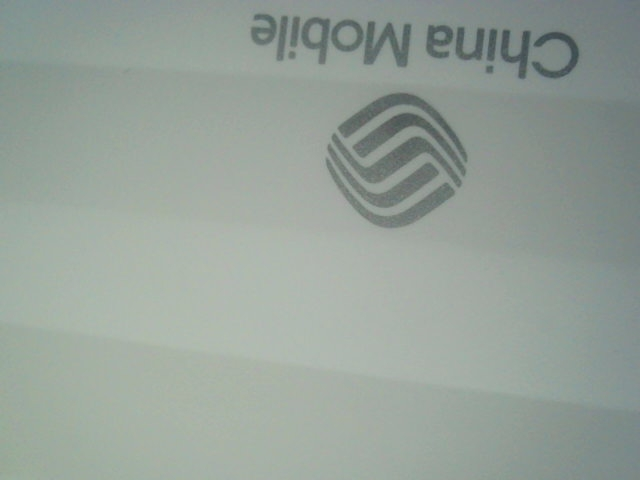AA_ChinaMobile: (246, 7, 595, 231)
